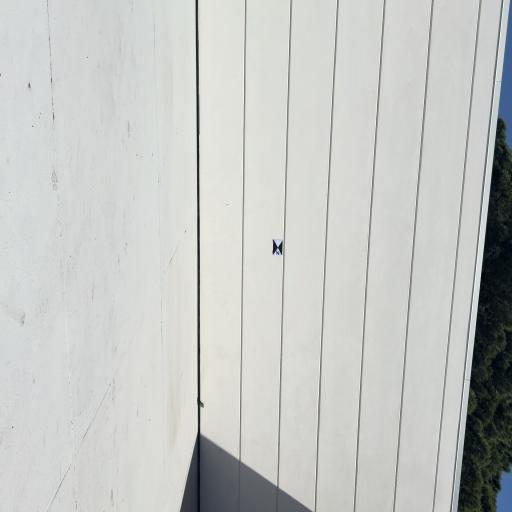target7: (273, 238, 282, 256)
